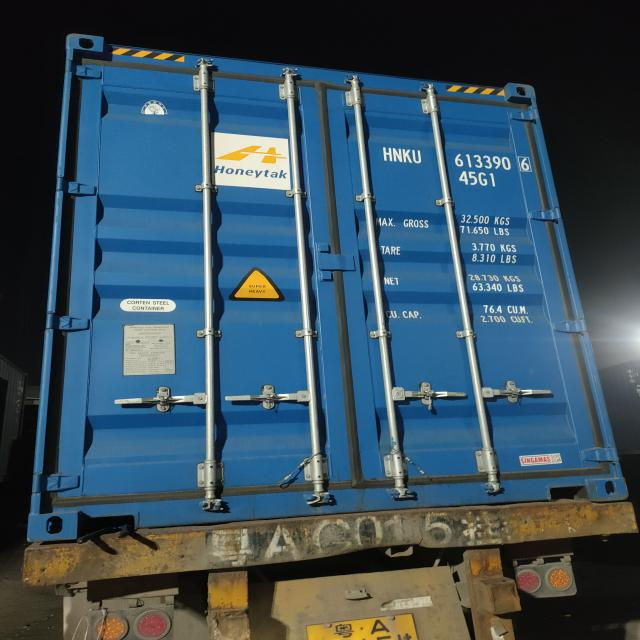seal: (424, 390, 435, 412)
